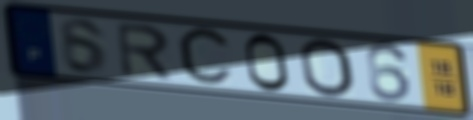0: (242, 32, 292, 93)
6: (56, 17, 111, 76), (364, 42, 414, 105)
C: (174, 25, 236, 90)
O: (297, 36, 359, 99)
R: (113, 21, 176, 82)
